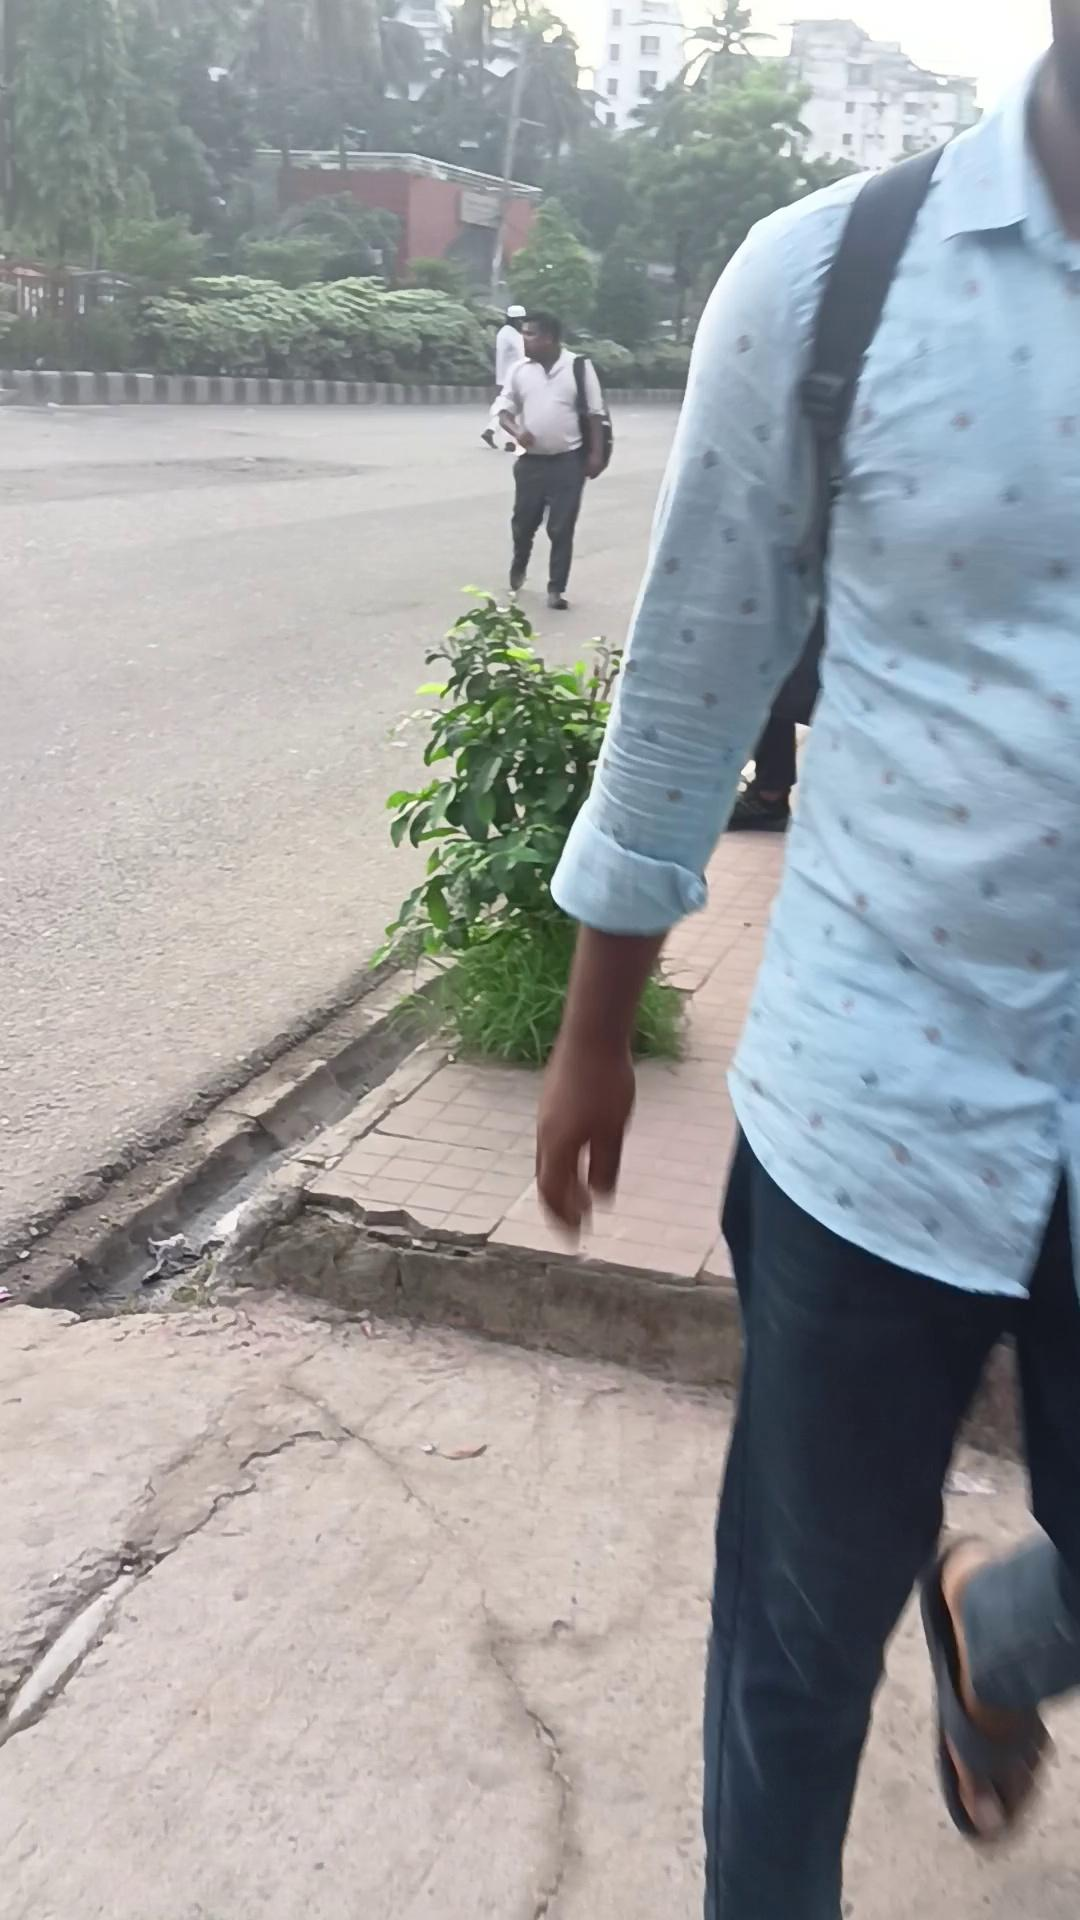Crosswalk: (194, 1182, 1036, 1473), (3, 931, 452, 1303)
Muddy road: (533, 4, 1079, 1915), (491, 309, 611, 611), (481, 303, 529, 448)
